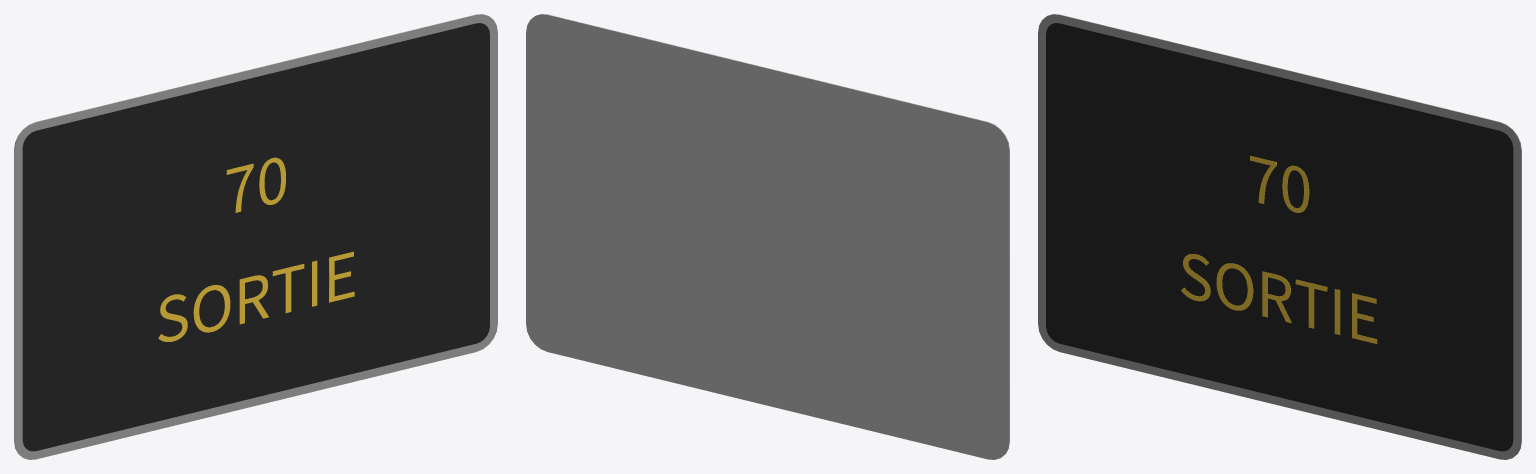
3 renders of one model, left to right at view 1: azimuth 30°, elevation 25°; view 2: azimuth 150°, elevation 25°; view 3: azimuth 330°, elevation 25°, orthographic.
Visible parts, largest first — view 1: X1a_r01, X1a_r00, X1a_txt03, X1a_txt02, X1a_dos; view 2: X1a_dos, X1a_r00; view 3: X1a_r01, X1a_r00, X1a_txt03, X1a_txt02, X1a_dos.
Boxes of the visible parts, x1,y1,x2,y2 form: X1a_r01: [22, 23, 489, 451]; X1a_r00: [14, 14, 497, 459]; X1a_txt03: [158, 251, 354, 341]; X1a_txt02: [226, 157, 285, 212]; X1a_dos: [14, 14, 487, 452]; X1a_dos: [526, 14, 1009, 459]; X1a_r00: [542, 14, 1009, 448]; X1a_r01: [1046, 23, 1513, 451]; X1a_r00: [1038, 14, 1521, 459]; X1a_txt03: [1181, 254, 1377, 343]; X1a_txt02: [1250, 155, 1309, 212]; X1a_dos: [1048, 14, 1521, 452].
Size of the model in its own units: 0.9 by 0.6 by 0.0029.
